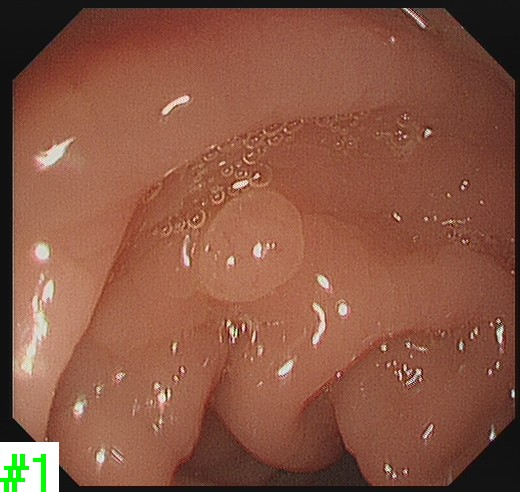adenoma: (193, 186, 306, 306)
